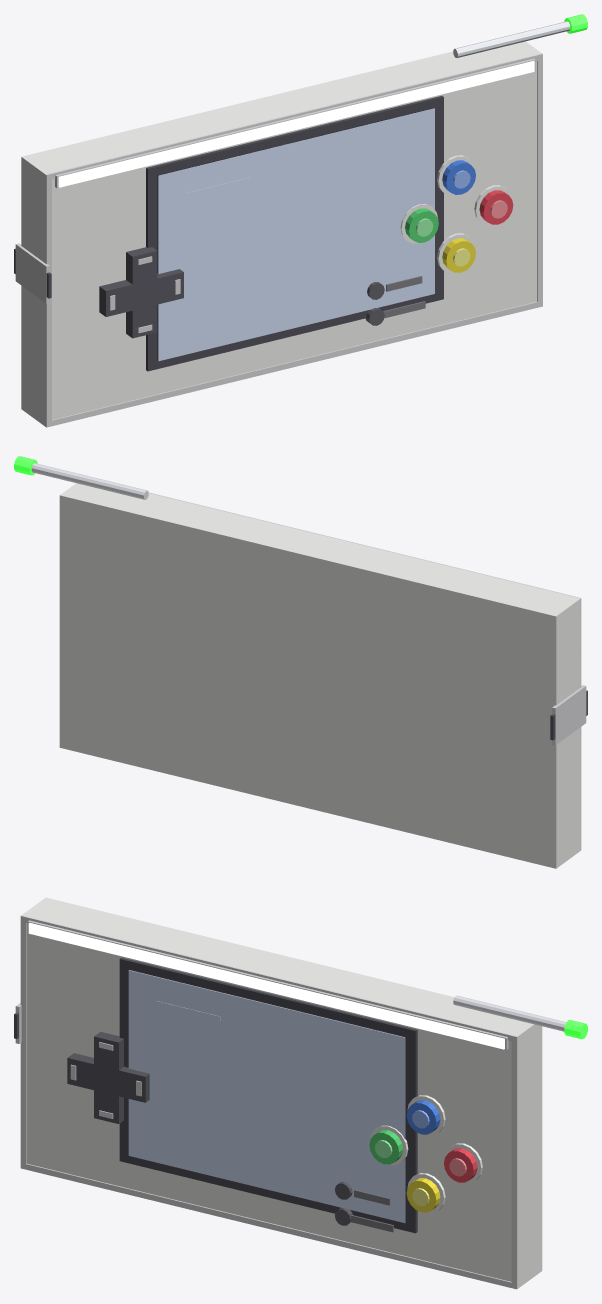
Rendered from mario_land_handheld.glb.
The picture shows the model from 3 angles, top to bottom: view 1: azimuth 30°, elevation 25°; view 2: azimuth 150°, elevation 25°; view 3: azimuth 330°, elevation 25°; orthographic projection.
Parts seen in each view (by area): view 1: Body, ScreenGlass, ScreenBezel, LightBar, TrimBot, DPadV, DPadH, TrimTop, TrimLeft, LightBarRim, TrimRight, VolWheel (+6 smaller); view 2: Body, VolWheel, Antenna, TrimTop; view 3: Body, ScreenGlass, ScreenBezel, LightBar, TrimBot, DPadH, DPadV, TrimTop, TrimRight, TrimLeft, LightBarRim, Antenna (+4 smaller).
Boxes of the visible parts, left/top/right/bottom form: Body: left=21, top=41, right=541, bottom=426; ScreenGlass: left=158, top=108, right=434, bottom=361; ScreenBezel: left=146, top=95, right=443, bottom=371; LightBar: left=58, top=61, right=534, bottom=187; TrimBot: left=45, top=301, right=542, bottom=427; DPadV: left=126, top=247, right=157, bottom=338; DPadH: left=99, top=269, right=183, bottom=316; TrimTop: left=45, top=53, right=542, bottom=180; TrimLeft: left=45, top=179, right=51, bottom=421; LightBarRim: left=55, top=58, right=535, bottom=188; TrimRight: left=537, top=59, right=542, bottom=301; VolWheel: left=15, top=243, right=49, bottom=303; Body: left=59, top=483, right=580, bottom=868; VolWheel: left=552, top=685, right=586, bottom=745; Antenna: left=31, top=463, right=148, bottom=499; TrimTop: left=148, top=492, right=581, bottom=603; Body: left=22, top=897, right=542, bottom=1288; ScreenGlass: left=128, top=970, right=405, bottom=1222; ScreenBezel: left=119, top=957, right=417, bottom=1233; LightBar: left=28, top=922, right=504, bottom=1049; TrimBot: left=20, top=1163, right=517, bottom=1289; DPadH: left=67, top=1053, right=149, bottom=1102; DPadV: left=94, top=1031, right=123, bottom=1123; TrimTop: left=20, top=915, right=517, bottom=1042; TrimRight: left=511, top=1041, right=517, bottom=1283; TrimLeft: left=20, top=921, right=26, bottom=1163; LightBarRim: left=28, top=920, right=508, bottom=1049; Antenna: left=453, top=995, right=566, bottom=1031.
Size of the model in its own units: 15.59 by 7.34 by 1.88.
